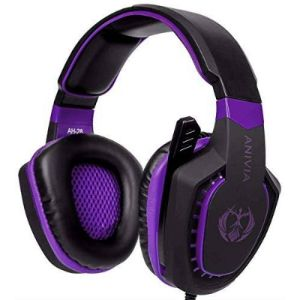headset: (9, 1, 291, 298)
